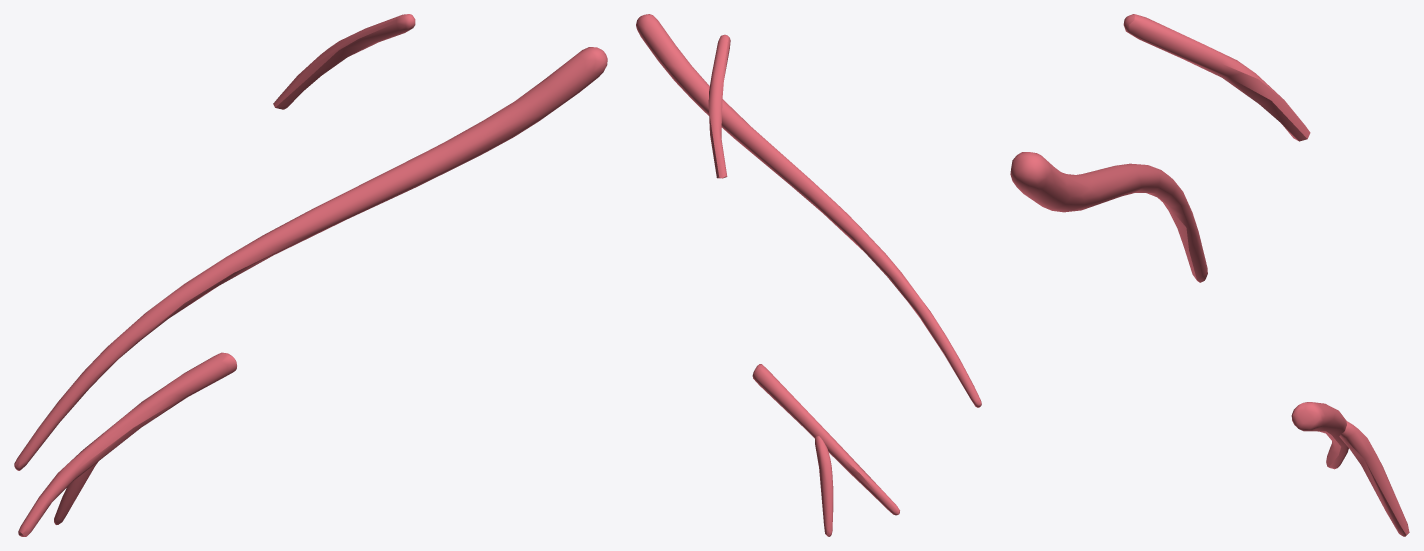
Rendered from fma9425_cx289.glb.
3 renders of one model, left to right at view 1: azimuth 30°, elevation 25°; view 2: azimuth 150°, elevation 25°; view 3: azimuth 270°, elevation 25°, orthographic. The views are drawn at different scales.
Visible parts, largest first — view 1: FMA9425_CX289; view 2: FMA9425_CX289; view 3: FMA9425_CX289.
Boxes of the visible parts, x1=… form: FMA9425_CX289: x1=14, y1=14, x2=607, y2=536; FMA9425_CX289: x1=636, y1=14, x2=981, y2=536; FMA9425_CX289: x1=1010, y1=14, x2=1409, y2=536.
Bounding box in the file's own units: 0.0857 × 0.0827 × 0.0444.
